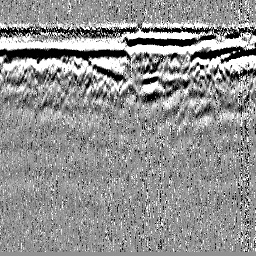cavity: (119, 76, 141, 102)
